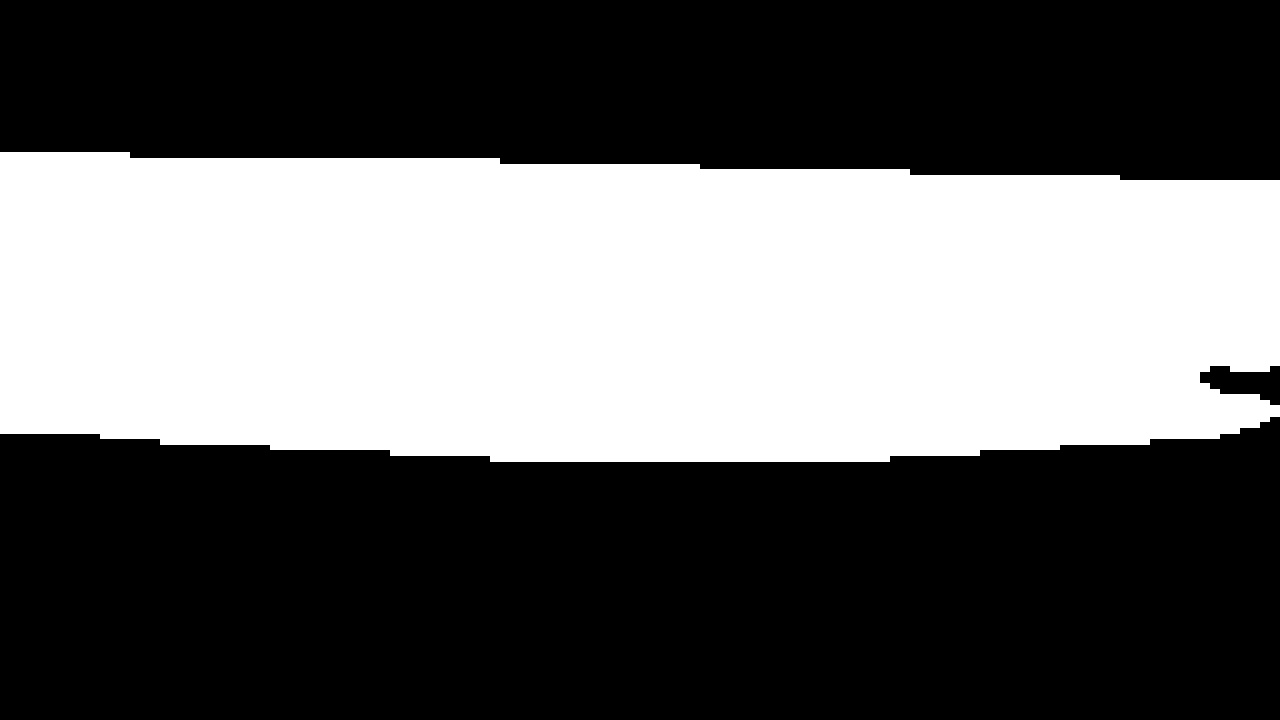Turbine: (14, 129, 1268, 478)
